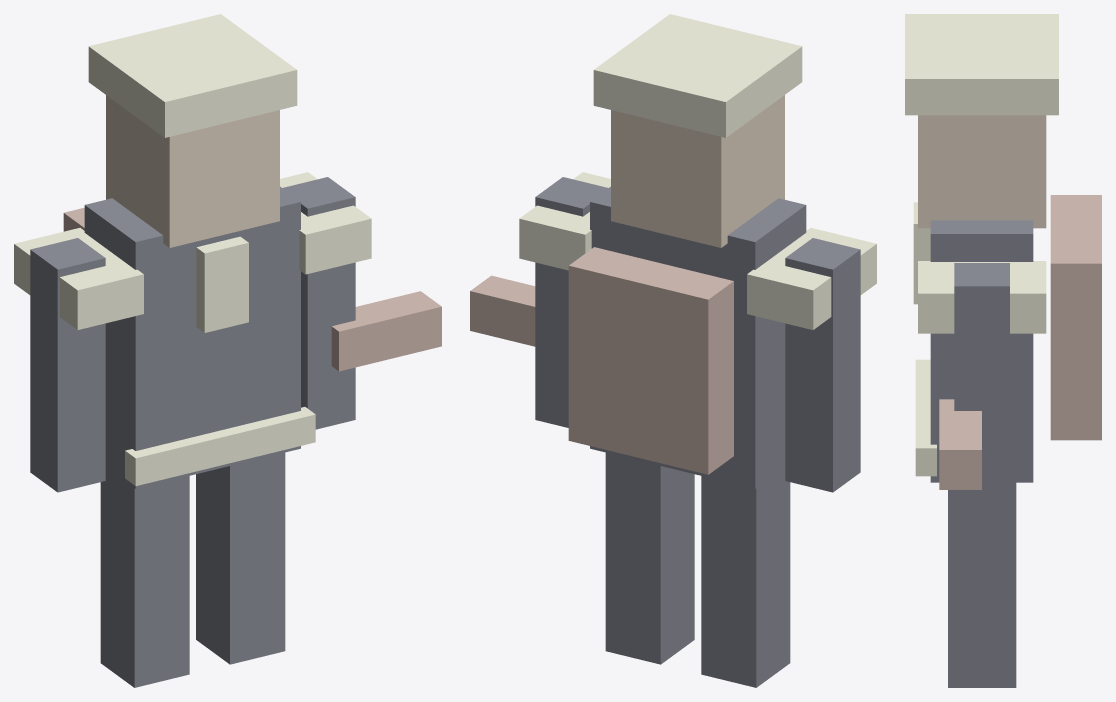
The model's file is 04_makoa_skyharrow_marshal_at_maintenance.glb.
3 renders of one model, left to right at view 1: azimuth 30°, elevation 25°; view 2: azimuth 150°, elevation 25°; view 3: azimuth 270°, elevation 25°, orthographic.
Visible parts, largest first — view 1: Makoa Skyharrow, Marshal at Maintenance; view 2: Makoa Skyharrow, Marshal at Maintenance; view 3: Makoa Skyharrow, Marshal at Maintenance.
Boxes of the visible parts, bbox=[...] form: Makoa Skyharrow, Marshal at Maintenance: bbox=[14, 14, 441, 687]; Makoa Skyharrow, Marshal at Maintenance: bbox=[470, 14, 876, 687]; Makoa Skyharrow, Marshal at Maintenance: bbox=[905, 14, 1101, 687].
Size of the model in its own units: 0.9744 by 1.48 by 0.4373.
